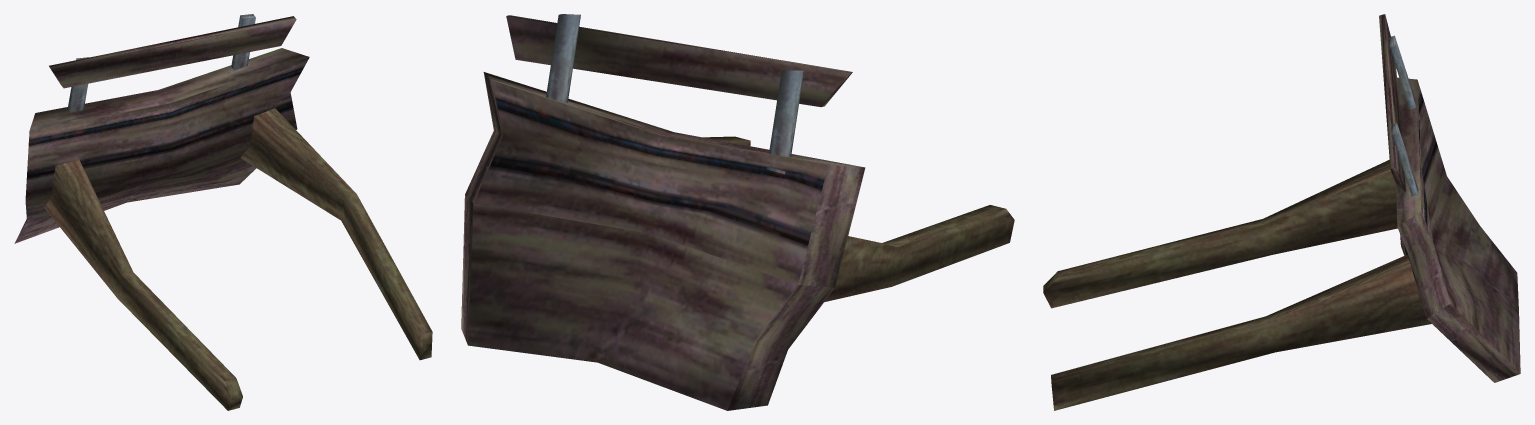
The model's file is pieces_cartfront.glb.
3 renders of one model, left to right at view 1: azimuth 30°, elevation 25°; view 2: azimuth 150°, elevation 25°; view 3: azimuth 270°, elevation 25°, orthographic. The views are drawn at different scales.
Parts seen in each view (by area): view 1: pieces_cartfront; view 2: pieces_cartfront; view 3: pieces_cartfront.
Part boxes in pixels (x1,y1,x2,y2): pieces_cartfront: [14, 14, 432, 410]; pieces_cartfront: [461, 14, 1014, 410]; pieces_cartfront: [1043, 14, 1520, 410].
Size of the model in its own units: 0.6646 by 0.5456 by 0.8683.
Materials: 1 (1 with a texture image).
